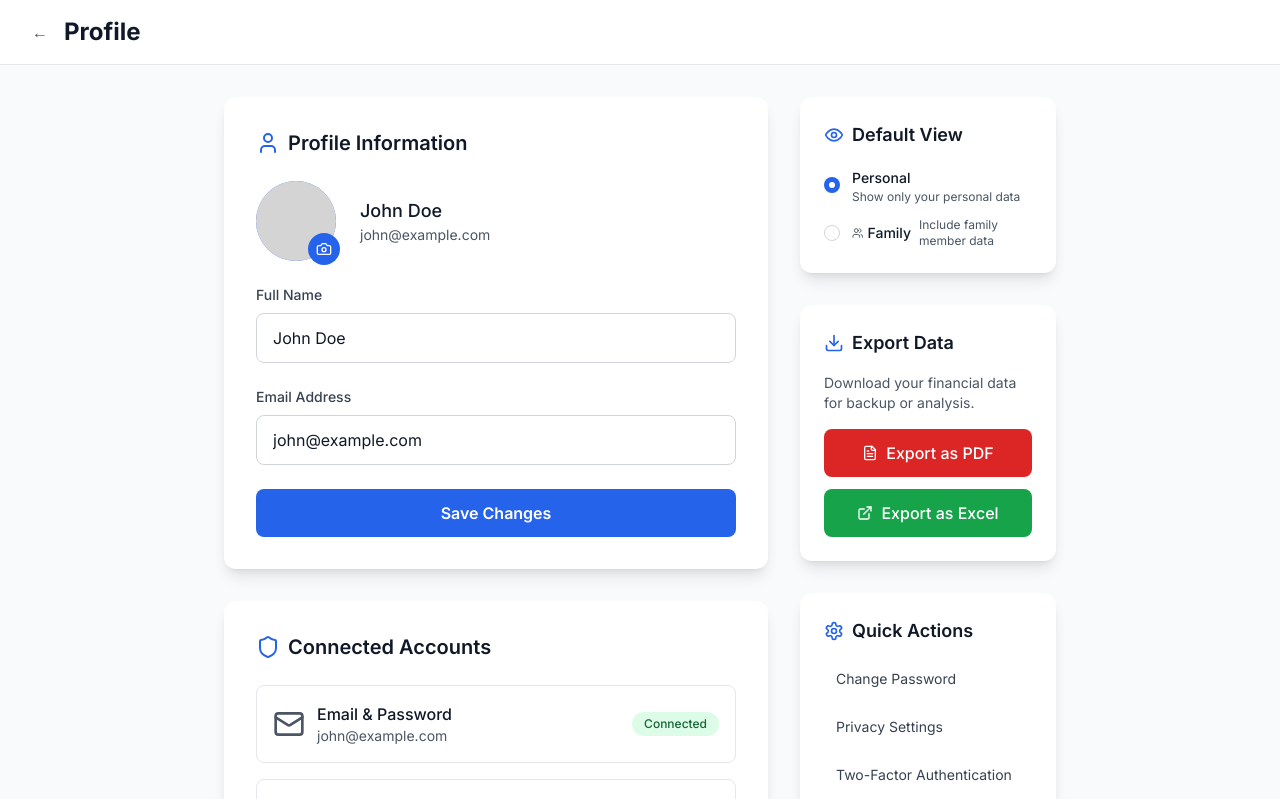
Test: ProfilePage › changes default view
Expected: the radio button labelled "Personal Show only your personal data" is checked, [824,177,840,193]
Step 1. Click the radio button labelled "Family Include family member data" → (832, 233), box [824,225,840,241]
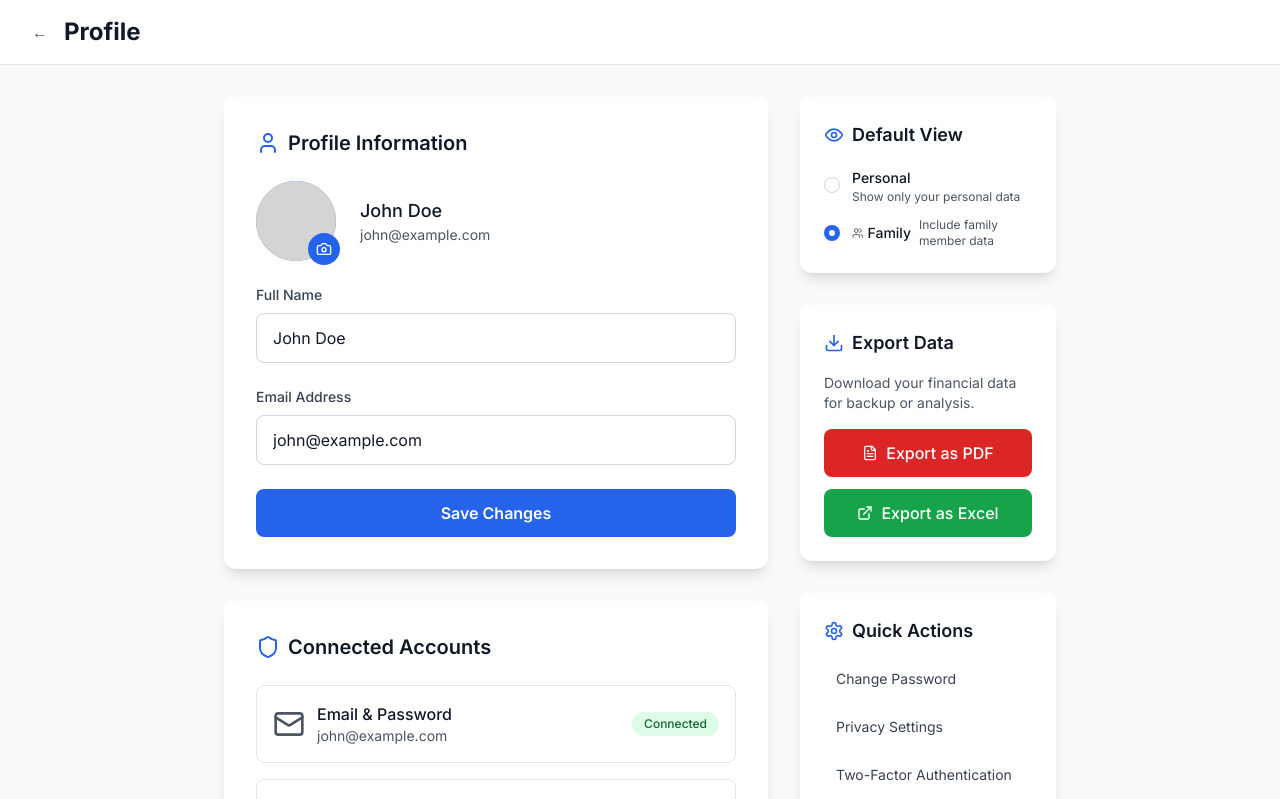
Expected: the radio button labelled "Family Include family member data" is checked, [824,225,840,241]
Expected: the radio button labelled "Personal Show only your personal data" is not checked, [824,177,840,193]
